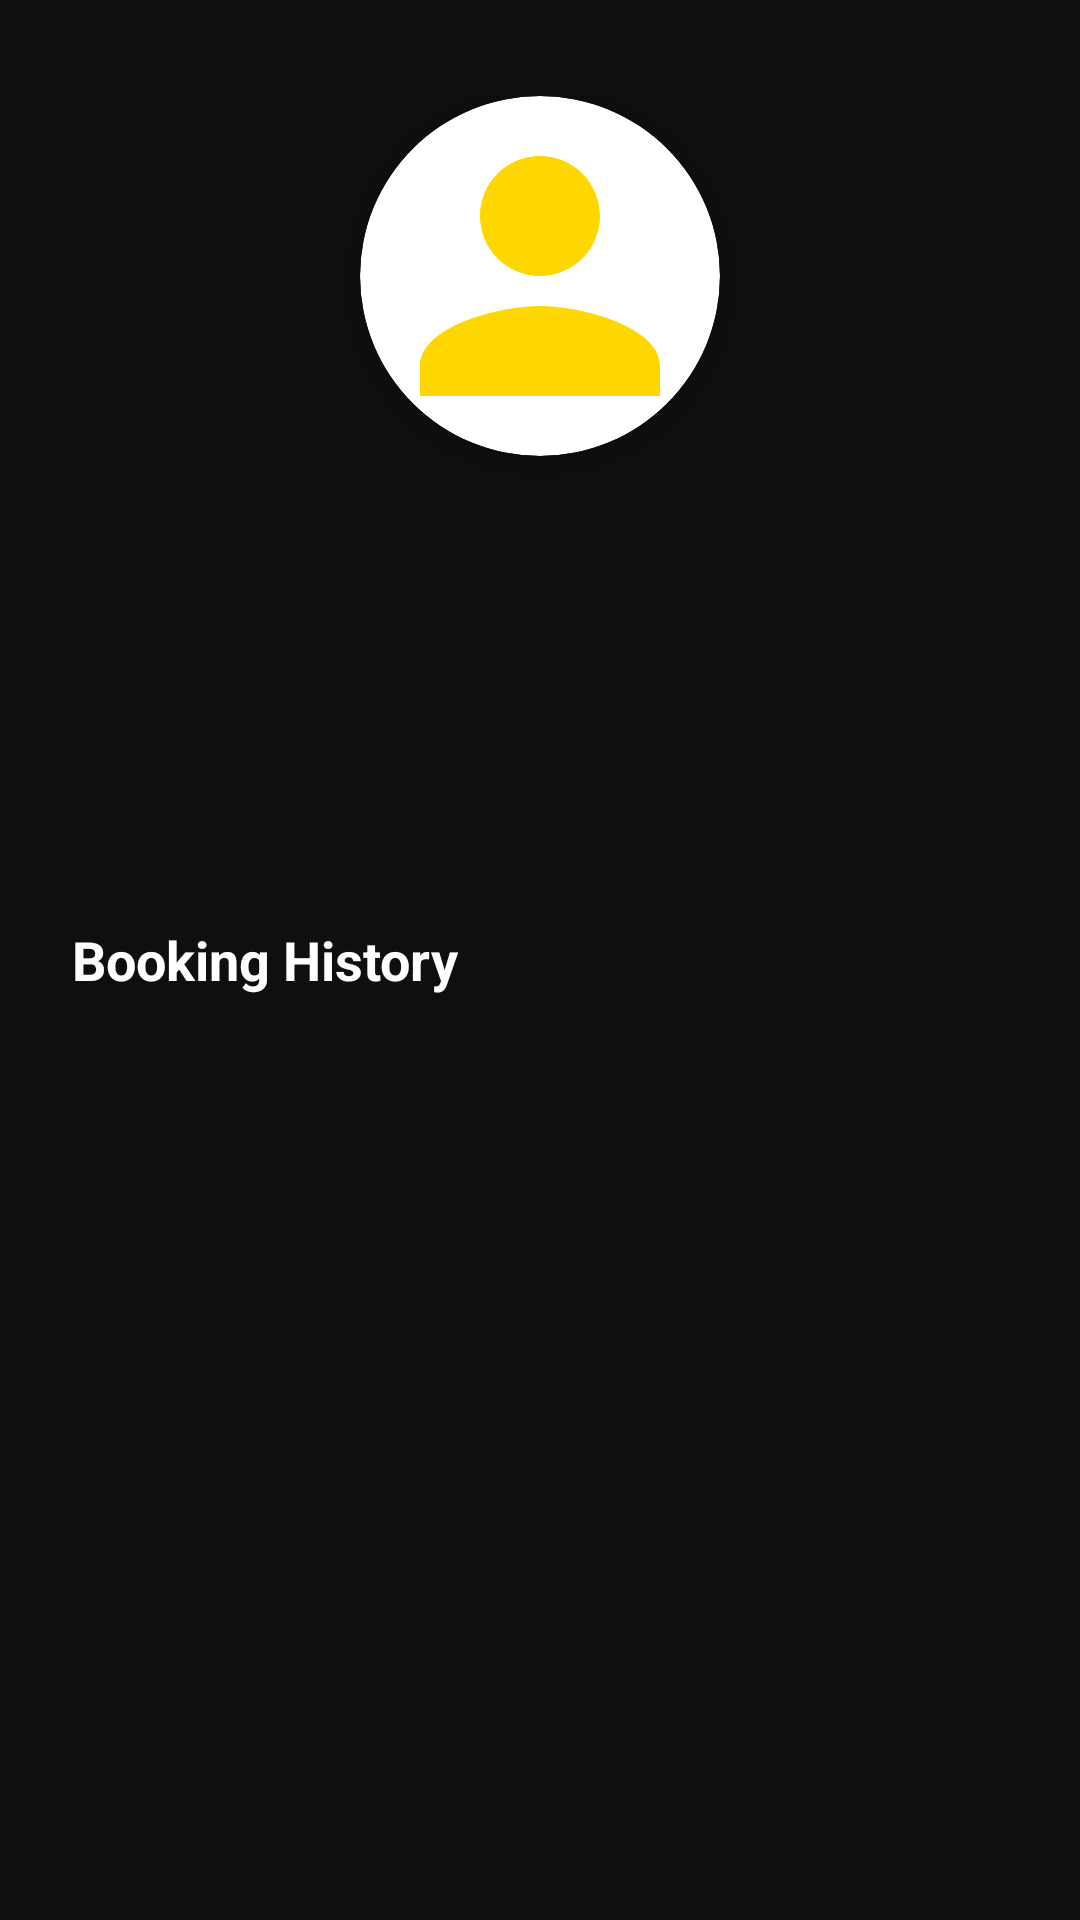

Icon bounding boxes for this 1080px x 1920px phone screenshot, format BBox(x1, y1, x2, y2):
profile: BBox(360, 96, 720, 456)
